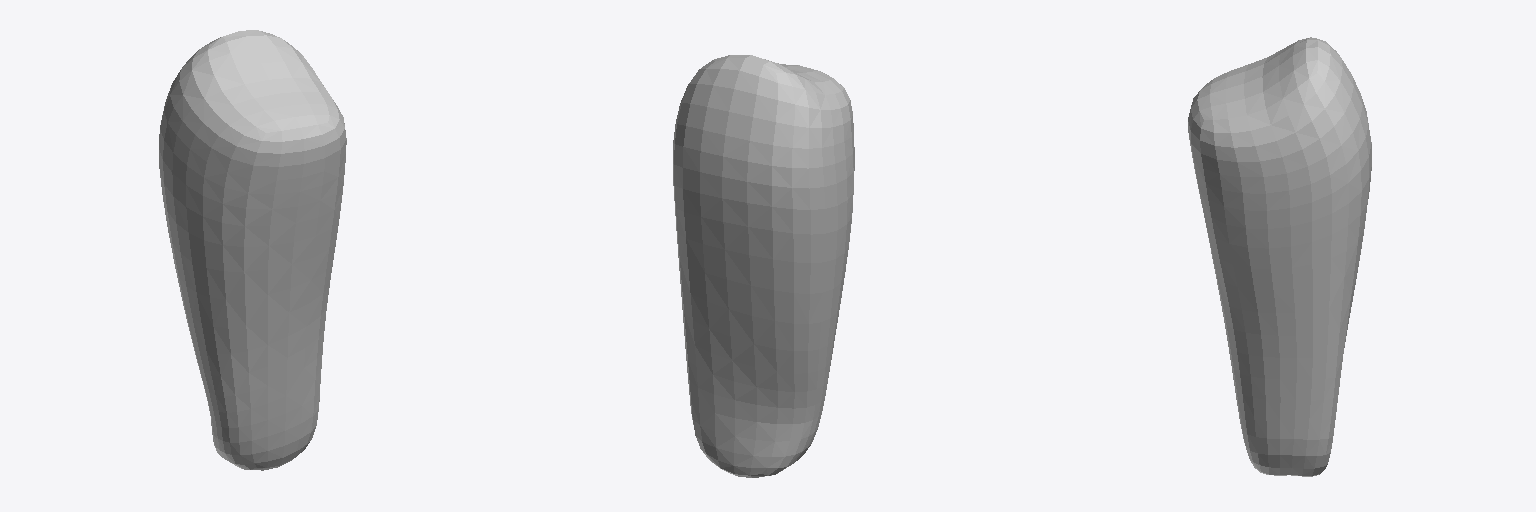
File: f_rlleg.obj
3 views of the same model, side by side, from view 1: azimuth 30°, elevation 25°; view 2: azimuth 150°, elevation 25°; view 3: azimuth 270°, elevation 25° (orthographic).
Visible parts, largest first — view 1: pCube9; view 2: pCube9; view 3: pCube9.
Boxes of the visible parts, box(x1,y1,x2,y2) form: pCube9: box(159, 30, 346, 470); pCube9: box(673, 55, 854, 477); pCube9: box(1188, 37, 1371, 476).
Size of the model in its own units: 0.5657 by 1.5 by 0.5927.